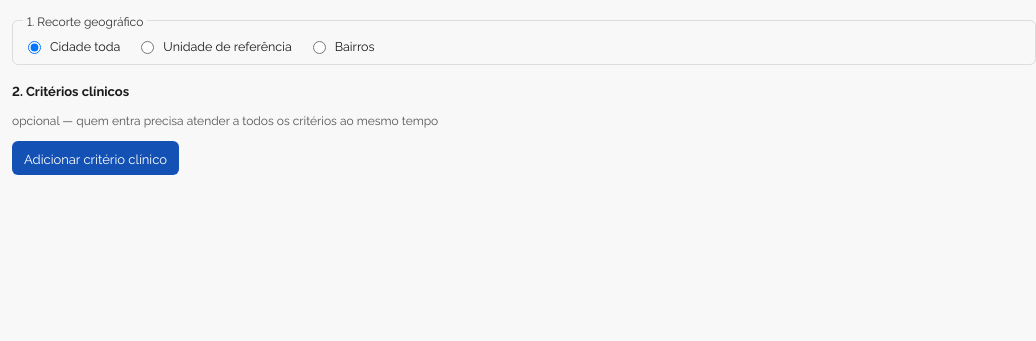
Test: AudienceBuilder — recorte › bairros: seleção múltipla, com contagem
The width and height of the screenshot is (1036, 341).
Click the radio button labelled "Bairros" at x=319, y=48, box [313, 42, 326, 54]
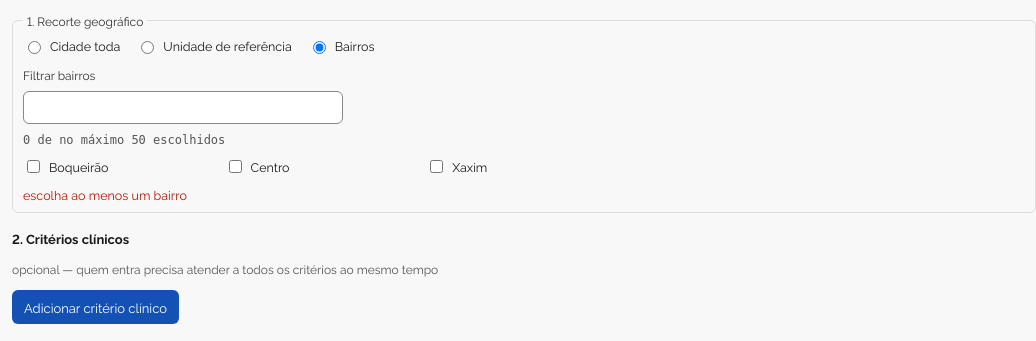
Expected: the message reads "escolha ao menos um bairro", [23, 186, 187, 203]
Click the checkbox labelled "Xaxim" at x=437, y=167, box [430, 160, 443, 173]
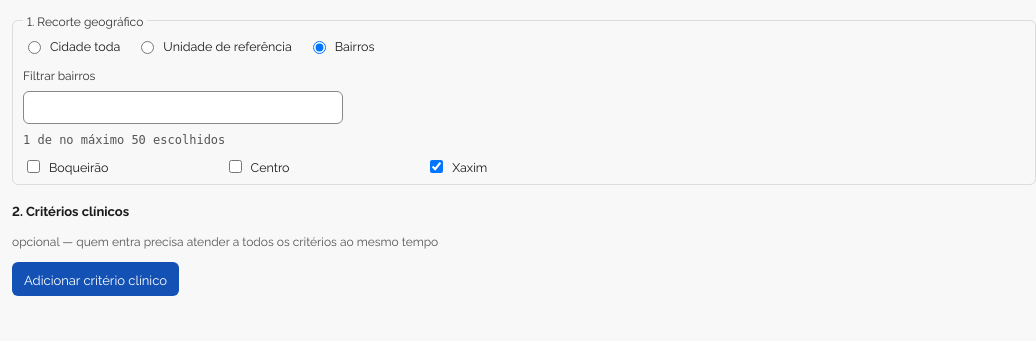
Click the checkbox labelled "Boqueirão" at x=34, y=167, box [27, 160, 40, 173]
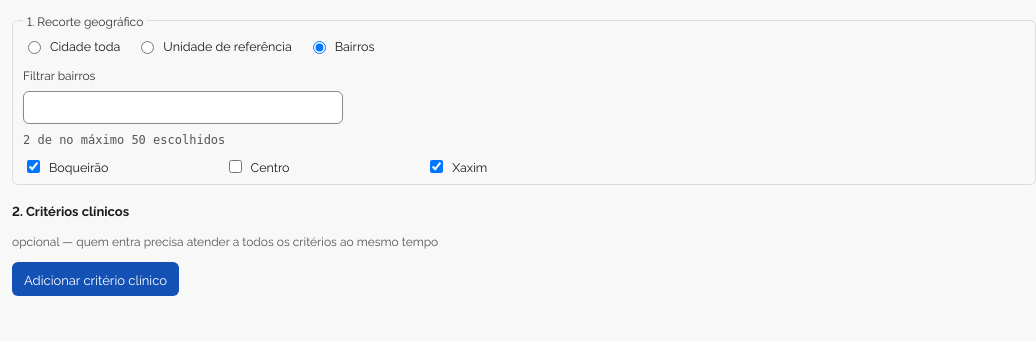
Expected: the text "2 de no máximo 50 escolhidos" is shown, [23, 133, 225, 147]
